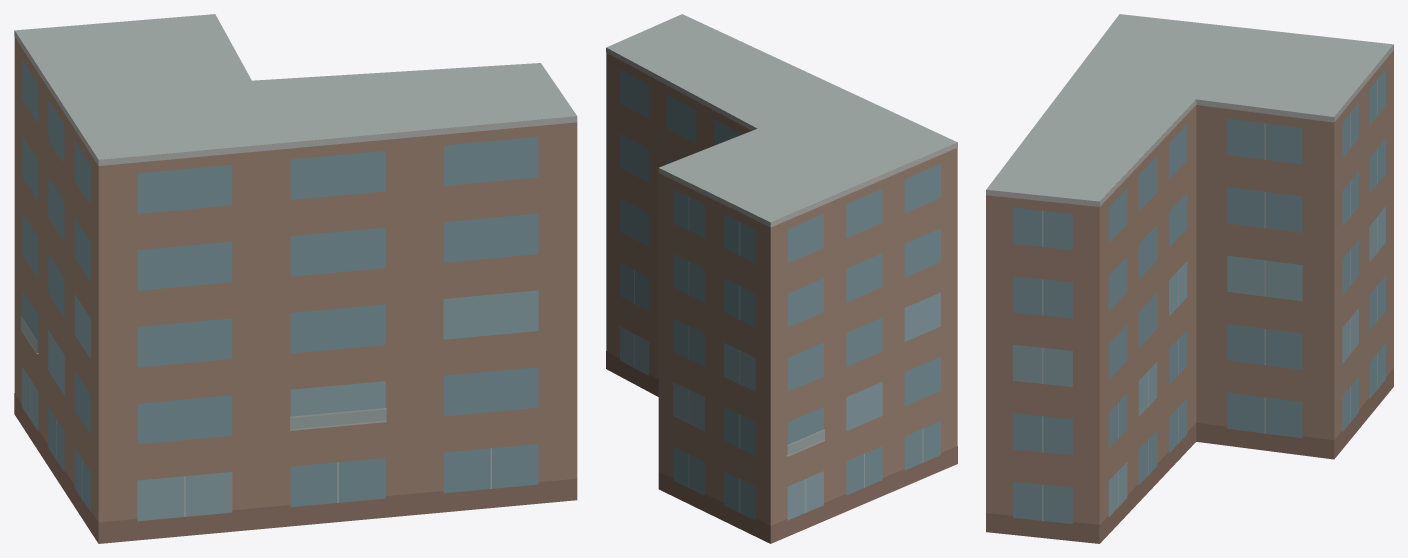
File: survey-upis-32869190.glb
3 views of the same model, side by side, from view 1: azimuth 30°, elevation 25°; view 2: azimuth 150°, elevation 25°; view 3: azimuth 270°, elevation 25° (orthographic). The views are drawn at different scales.
Visible parts, largest first — view 1: survey-upis-32869190.tmp; view 2: survey-upis-32869190.tmp; view 3: survey-upis-32869190.tmp.
Part boxes in pixels (box(x1,y1,x2,y2)): survey-upis-32869190.tmp: box(14, 14, 577, 543); survey-upis-32869190.tmp: box(606, 14, 957, 543); survey-upis-32869190.tmp: box(986, 14, 1393, 543).
Size of the model in its own units: 17.93 by 15.25 by 16.47.
